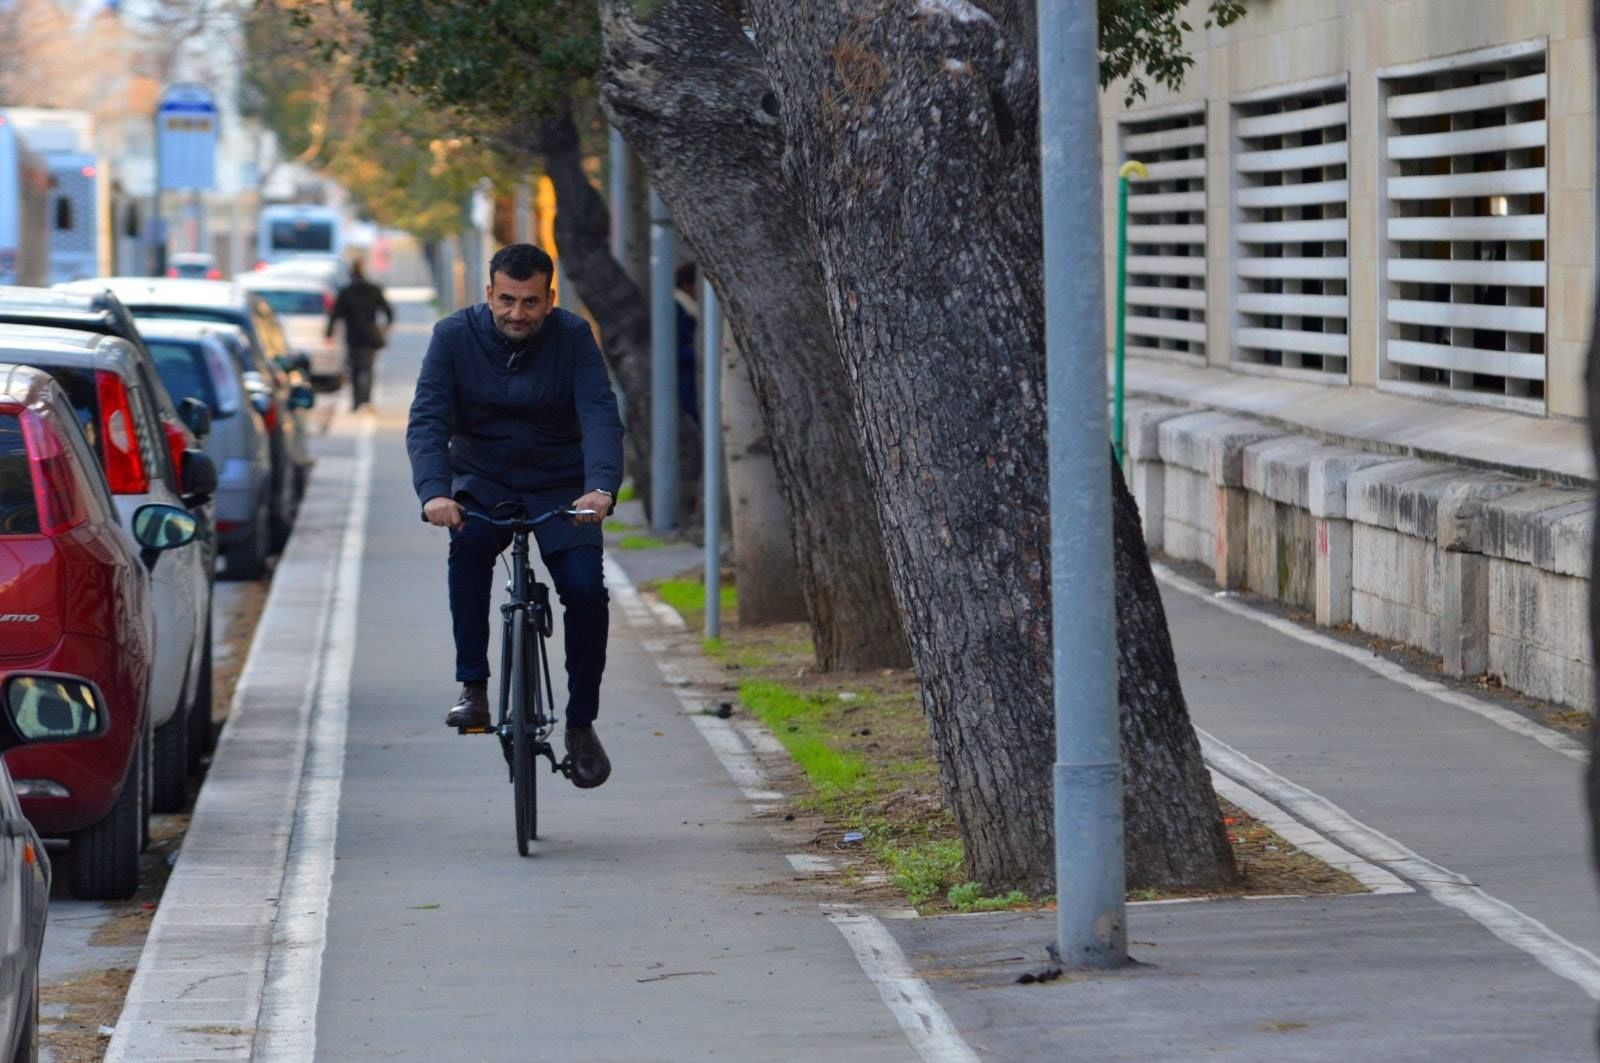cyclist_front: (400, 233, 634, 869)
